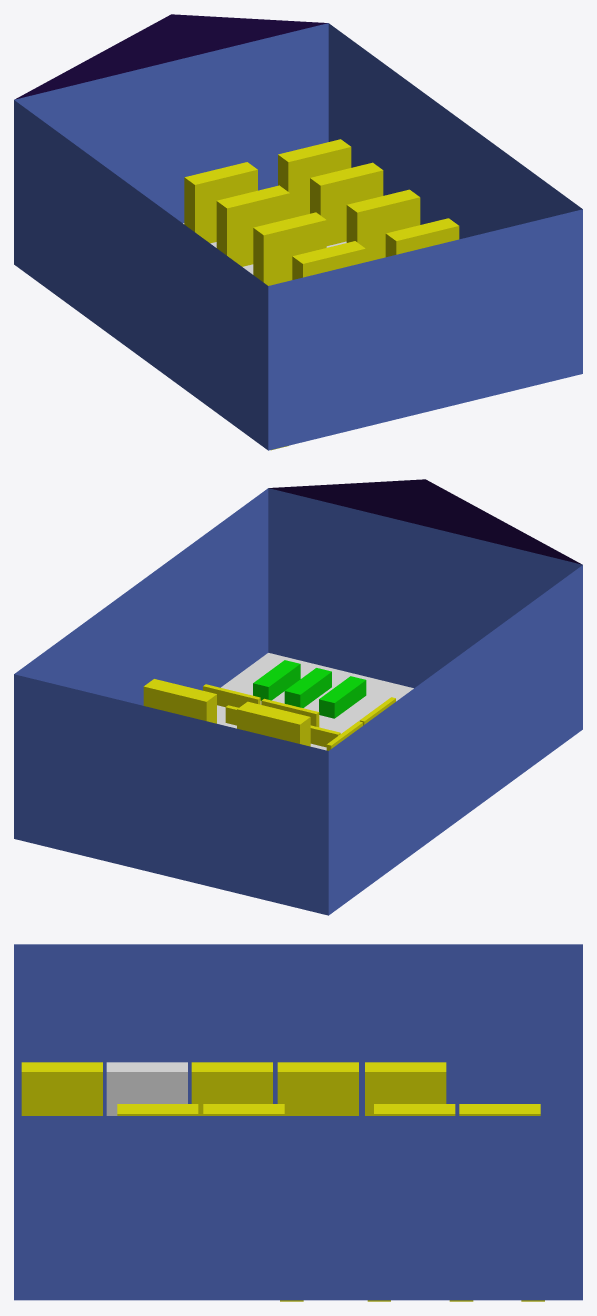
Rendered from Toy Store.fbx.
The picture shows the model from 3 angles, top to bottom: view 1: azimuth 30°, elevation 25°; view 2: azimuth 150°, elevation 25°; view 3: azimuth 270°, elevation 25°; orthographic projection. The views are drawn at different scales.
Visible parts, largest first — view 1: OuterWalls, Roof, Cube.012, Cube.014, Cube.013, Cube.015, Cube.010, Cube.011, Cube.017, Cube.016; view 2: OuterWalls, Roof, Floor, Cube.016, Cube.017, Till.002, Till, Till.001, Till.003; view 3: OuterWalls, Cube, Cube.003, Cube.001, Cube.004, Cube.002, Cube.005, Cube.006, Cube.008, Cube.009.
Part boxes in pixels (x1,y1,x2,y2): OuterWalls: [14, 23, 582, 450]; Roof: [15, 14, 327, 99]; Cube.012: [216, 185, 289, 266]; Cube.014: [253, 212, 326, 285]; Cube.013: [310, 162, 383, 245]; Cube.015: [346, 189, 420, 261]; Cube.010: [184, 162, 257, 243]; Cube.011: [278, 139, 351, 218]; Cube.017: [385, 218, 459, 257]; Cube.016: [292, 241, 365, 279]; OuterWalls: [14, 488, 582, 915]; Roof: [269, 479, 581, 564]; Floor: [217, 653, 413, 750]; Cube.016: [237, 701, 310, 746]; Cube.017: [143, 679, 216, 723]; Till.002: [319, 676, 366, 718]; Till: [253, 660, 300, 700]; Till.001: [284, 668, 331, 707]; Till.003: [203, 684, 260, 707]; OuterWalls: [14, 944, 582, 1300]; Cube: [21, 1062, 102, 1115]; Cube.003: [277, 1062, 358, 1115]; Cube.001: [106, 1062, 187, 1115]; Cube.004: [365, 1062, 446, 1115]; Cube.002: [191, 1062, 272, 1115]; Cube.005: [117, 1104, 198, 1115]; Cube.006: [203, 1104, 284, 1115]; Cube.008: [374, 1104, 455, 1115]; Cube.009: [459, 1104, 540, 1115].
Size of the model in its own units: 1000 by 654 by 1400.
